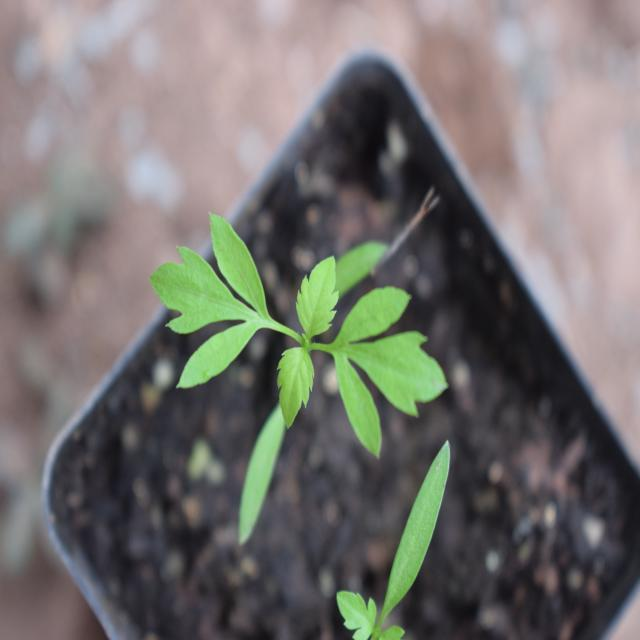Bidens pilosa: (147, 222, 460, 547)
